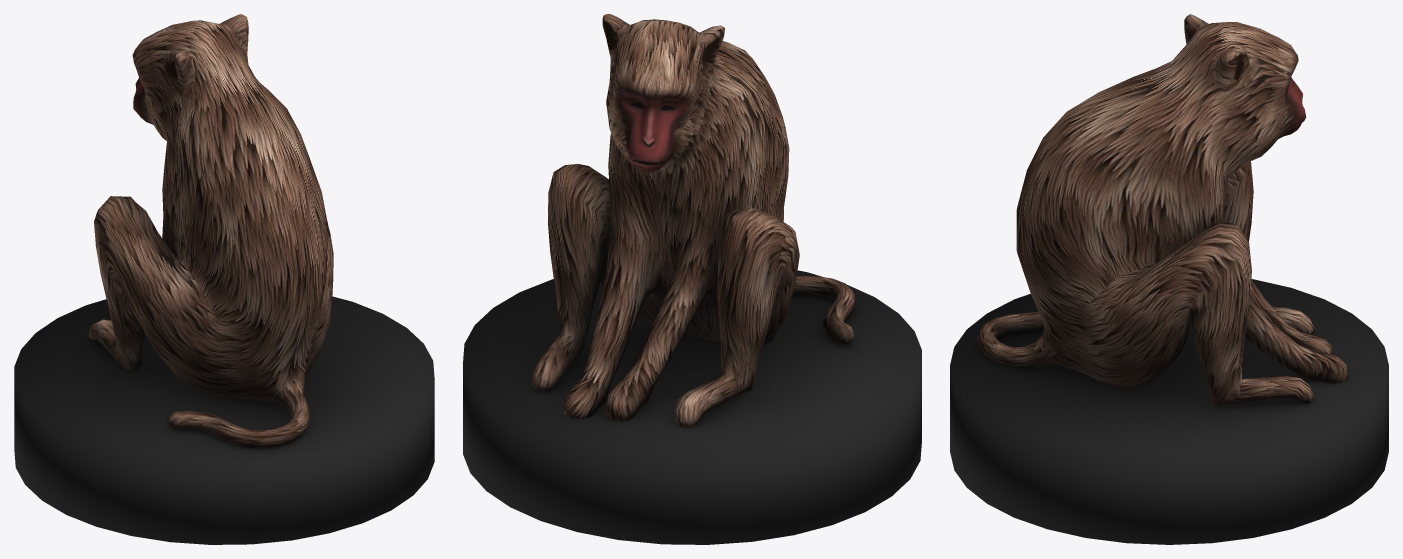
The picture shows the model from 3 angles, left to right: view 1: azimuth 30°, elevation 25°; view 2: azimuth 150°, elevation 25°; view 3: azimuth 270°, elevation 25°; orthographic projection. The views are drawn at different scales.
Parts seen in each view (by area): view 1: Cylinder, monkey2; view 2: Cylinder, monkey2; view 3: monkey2, Cylinder.
Boxes of the visible parts, box(x1,y1,x2,y2) form: Cylinder: box(14, 296, 434, 544); monkey2: box(89, 14, 333, 448); Cylinder: box(463, 270, 921, 544); monkey2: box(531, 14, 855, 427); monkey2: box(977, 14, 1347, 405); Cylinder: box(950, 279, 1388, 544).
Bounding box in the file's own units: 2.1 × 2.25 × 2.1.
Materials: 2 (2 with a texture image).
